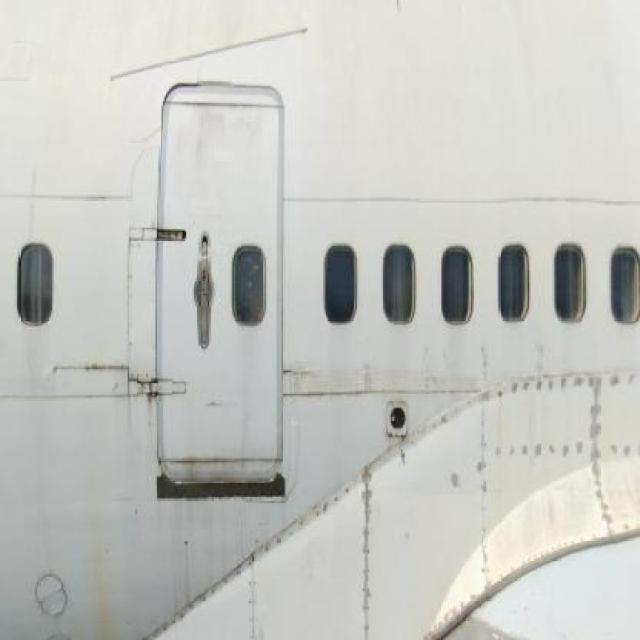Missing-Rivet: (464, 366, 504, 602), (508, 369, 588, 480), (145, 554, 241, 640), (585, 358, 623, 540), (353, 451, 384, 640), (269, 497, 354, 545), (241, 537, 268, 640)
Rust: (86, 486, 122, 640), (140, 375, 158, 417)
